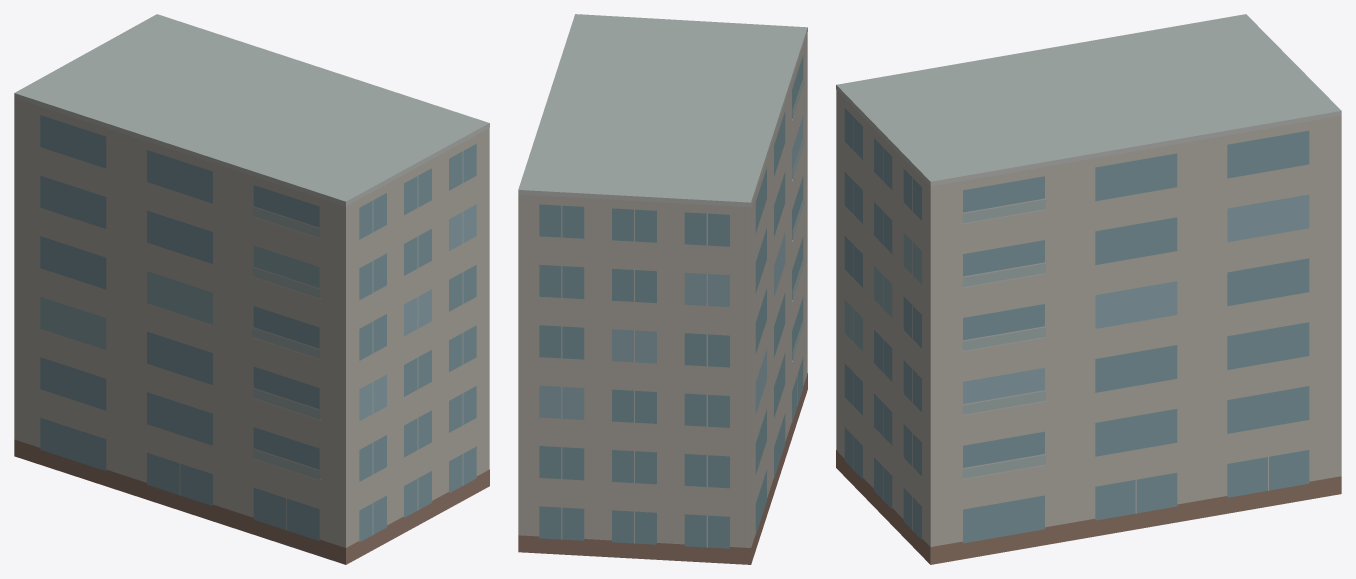
The model's file is survey-upis-32996416.glb.
The picture shows the model from 3 angles, left to right: view 1: azimuth 30°, elevation 25°; view 2: azimuth 150°, elevation 25°; view 3: azimuth 270°, elevation 25°; orthographic projection. The views are drawn at different scales.
Visible parts, largest first — view 1: survey-upis-32996416.tmp; view 2: survey-upis-32996416.tmp; view 3: survey-upis-32996416.tmp.
Boxes of the visible parts, left/top/right/bottom form: survey-upis-32996416.tmp: left=14, top=14, right=489, bottom=564; survey-upis-32996416.tmp: left=518, top=14, right=807, bottom=564; survey-upis-32996416.tmp: left=836, top=14, right=1341, bottom=564.
Bounding box in the file's own units: 17.76 × 18.9 × 22.61.
